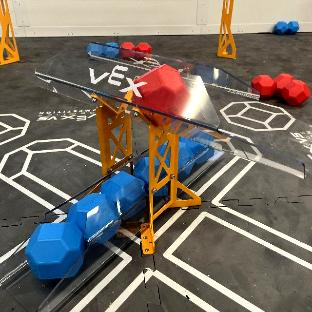V5_BLUE: (25, 164, 144, 279)
V5_RED: (134, 64, 189, 116), (252, 74, 310, 105), (119, 41, 150, 58)
blueingoal: (148, 113, 166, 122)
